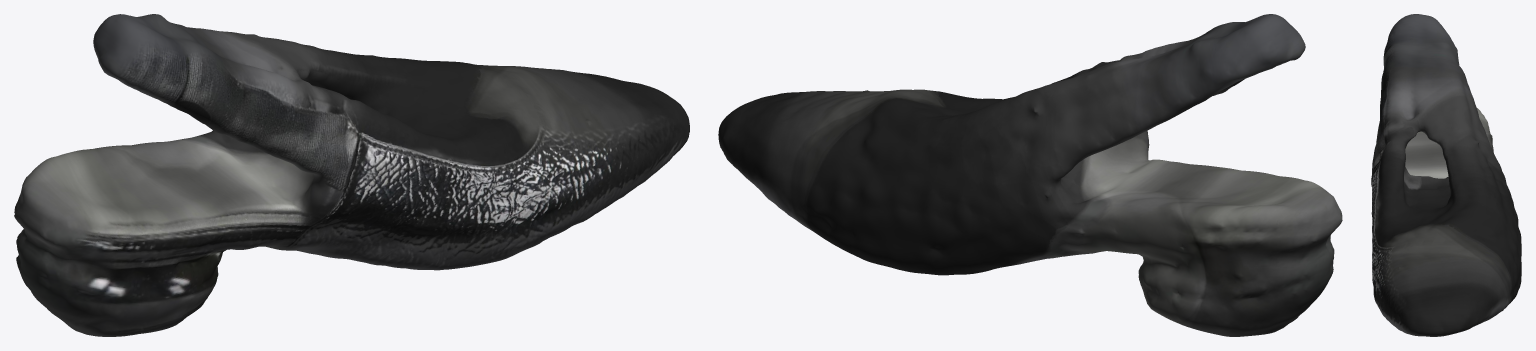
File: art-204.glb
3 renders of one model, left to right at view 1: azimuth 30°, elevation 25°; view 2: azimuth 150°, elevation 25°; view 3: azimuth 270°, elevation 25°, orthographic. The views are drawn at different scales.
Parts seen in each view (by area): view 1: geometry_0; view 2: geometry_0; view 3: geometry_0.
Boxes of the visible parts, x1,y1,x2,y2 form: geometry_0: (14, 14, 689, 336); geometry_0: (718, 14, 1342, 336); geometry_0: (1371, 14, 1521, 336).
Bounding box in the file's own units: 1.09 × 0.4944 × 0.3567.
Materials: 1 (1 with a texture image).
